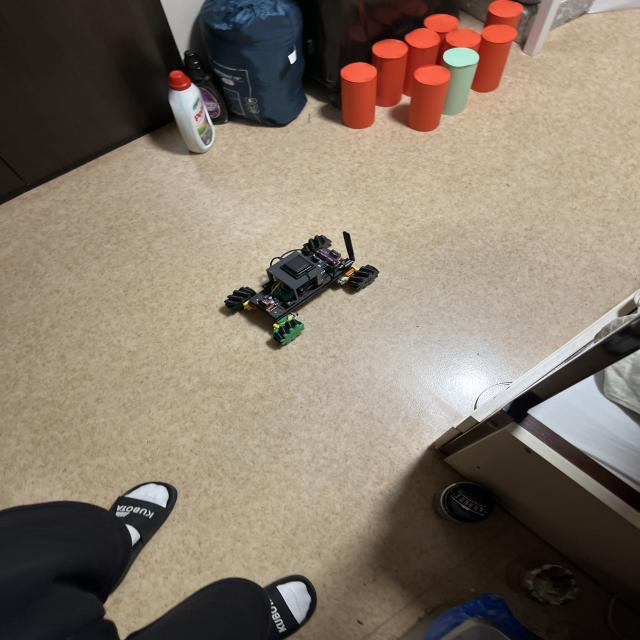robot: (224, 232, 379, 345)
